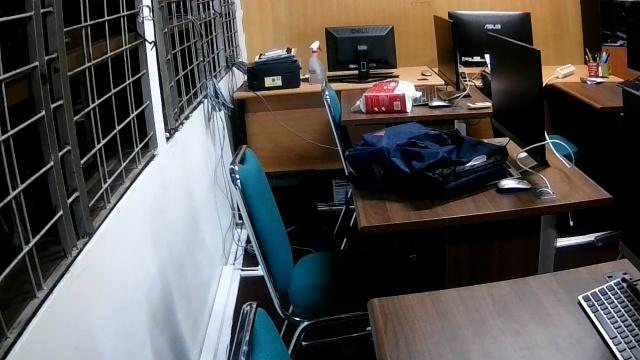AIO PC-Monitor-TV: (486, 29, 550, 174), (432, 13, 469, 99)
Kursi: (230, 142, 374, 357)
Meja: (351, 133, 614, 237), (339, 82, 493, 131)
